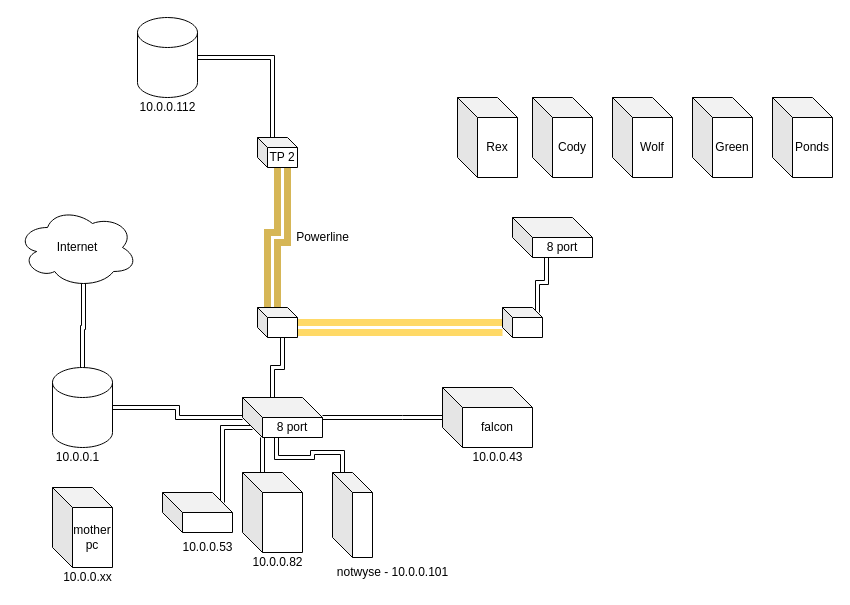
The diagram is 850 pixels wide and 605 high, and some of its shapes have lost their labels. The shapes that lost their labels are listed below. From the top down, each one's centre as x and y in pixels, then its label:
At pixel 167 57: "Nighthawk".
At pixel 277 322: "TP 1".
At pixel 522 322: "TP 3".
At pixel 82 407: "Gateway".
At pixel 197 512: "pi3".
At pixel 272 512: "chewie".
